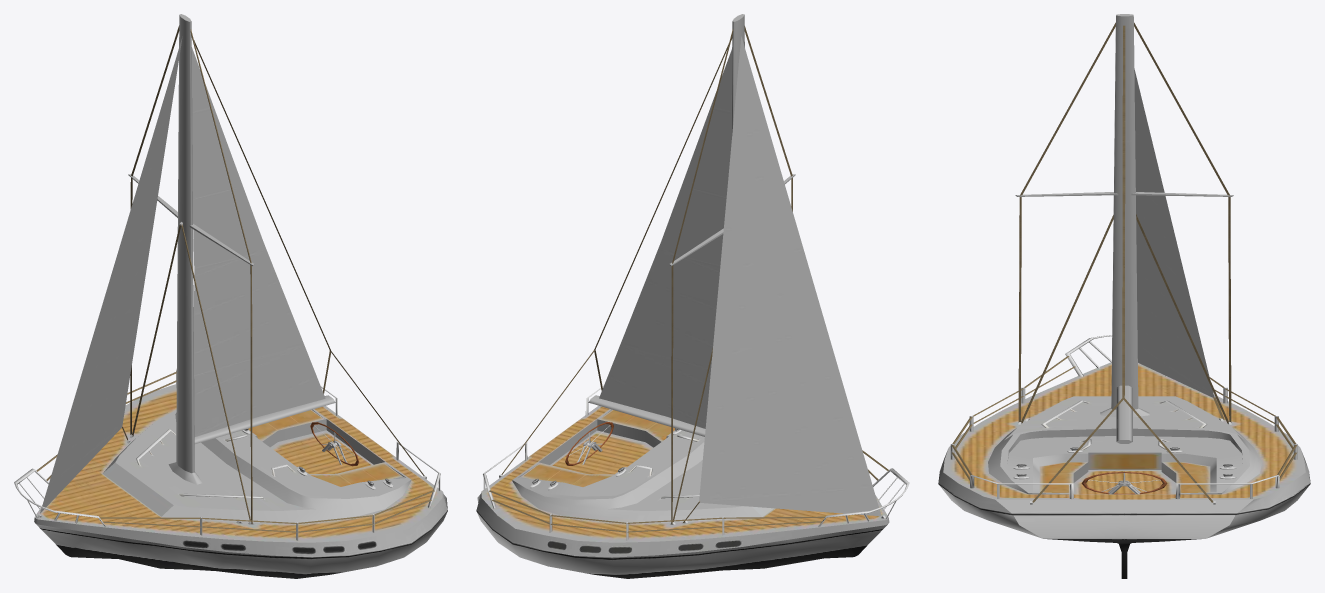
File: ship-sail.glb
The picture shows the model from 3 angles, left to right: view 1: azimuth 30°, elevation 25°; view 2: azimuth 150°, elevation 25°; view 3: azimuth 270°, elevation 25°; orthographic projection. The views are drawn at different scales.
Parts seen in each view (by area): view 1: Sailboat_01 - Default_0; view 2: Sailboat_01 - Default_0; view 3: Sailboat_01 - Default_0.
Part boxes in pixels (box(x1,y1,x2,y2)): Sailboat_01 - Default_0: box(14, 14, 447, 578); Sailboat_01 - Default_0: box(476, 14, 909, 578); Sailboat_01 - Default_0: box(938, 14, 1310, 578).
Bounding box in the file's own units: 1 × 1.44 × 1.
1 material, 1 textured.
